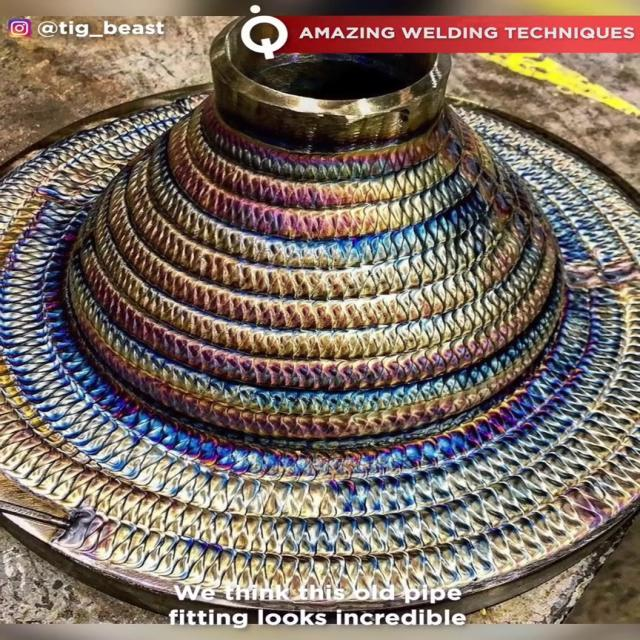Good Weld: (30, 154, 630, 512)
